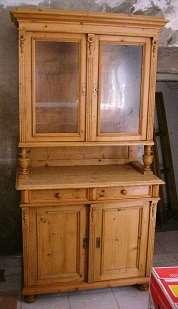cabinet_door: (20, 32, 85, 141), (87, 33, 148, 140), (24, 205, 88, 289), (89, 205, 149, 282), (24, 189, 88, 204), (90, 186, 154, 200)
handle: (119, 188, 129, 198), (53, 191, 63, 201)
